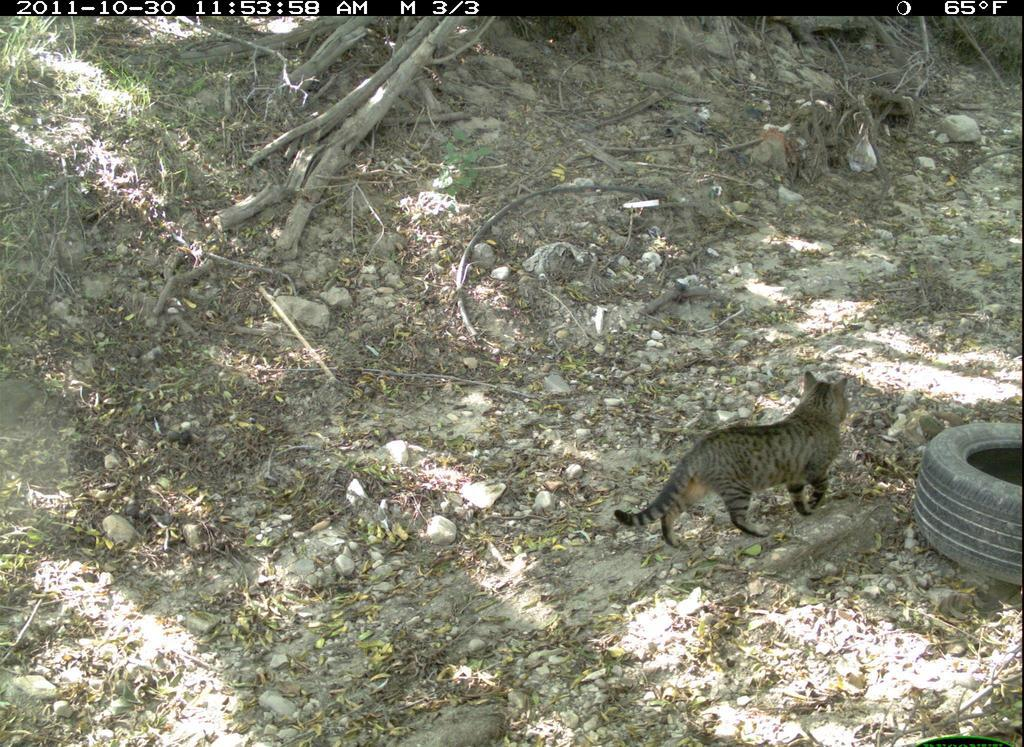cat: (609, 368, 853, 556)
